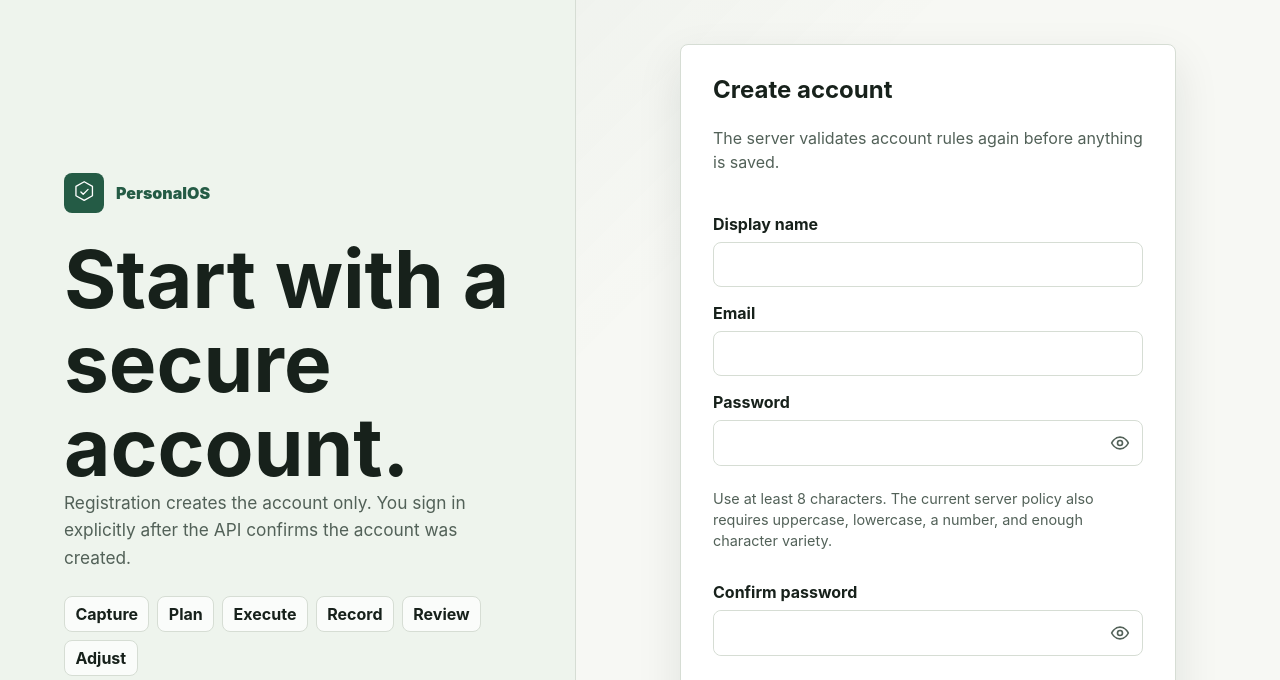
Test: RegisterComponent › shows accessible validation errors and password-confirmation feedback
The width and height of the screenshot is (1280, 680).
Step 1. Type "Jefferson" into the field with id "register-display-name" → (928, 265), box [713,242,1143,287]
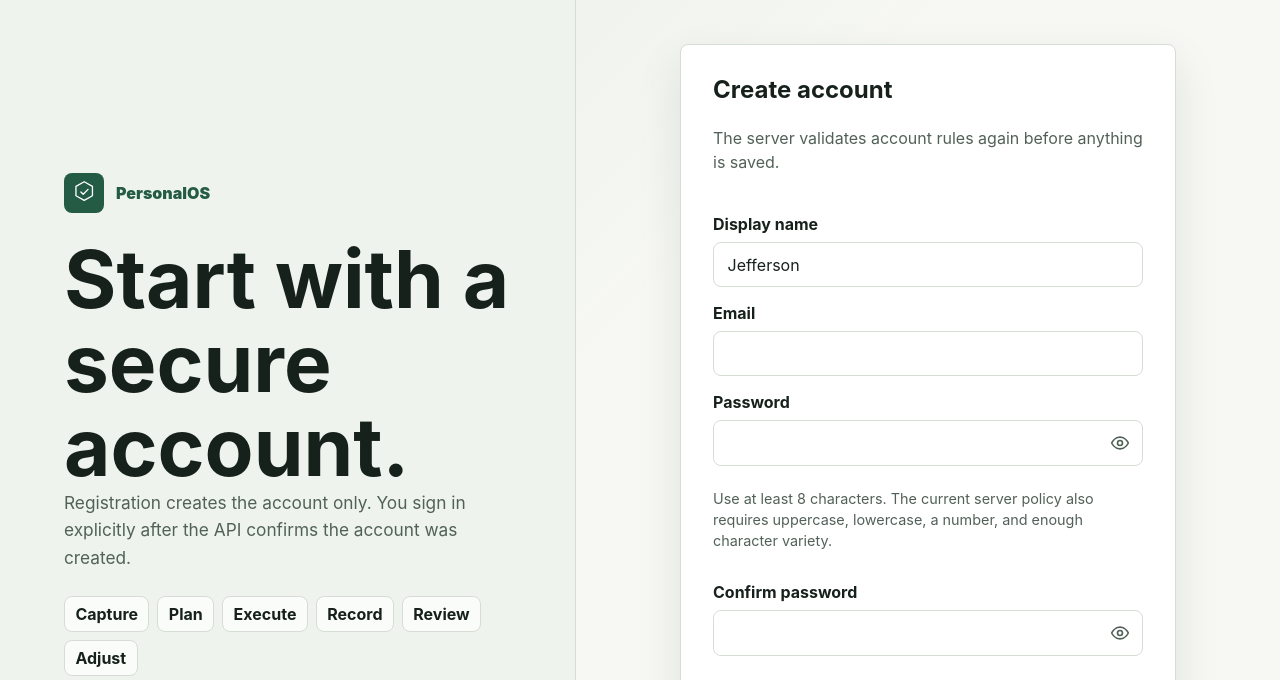
Step 2. Type "jefferson@example.com" into the field with id "register-email" → (928, 354), box [713,331,1143,376]
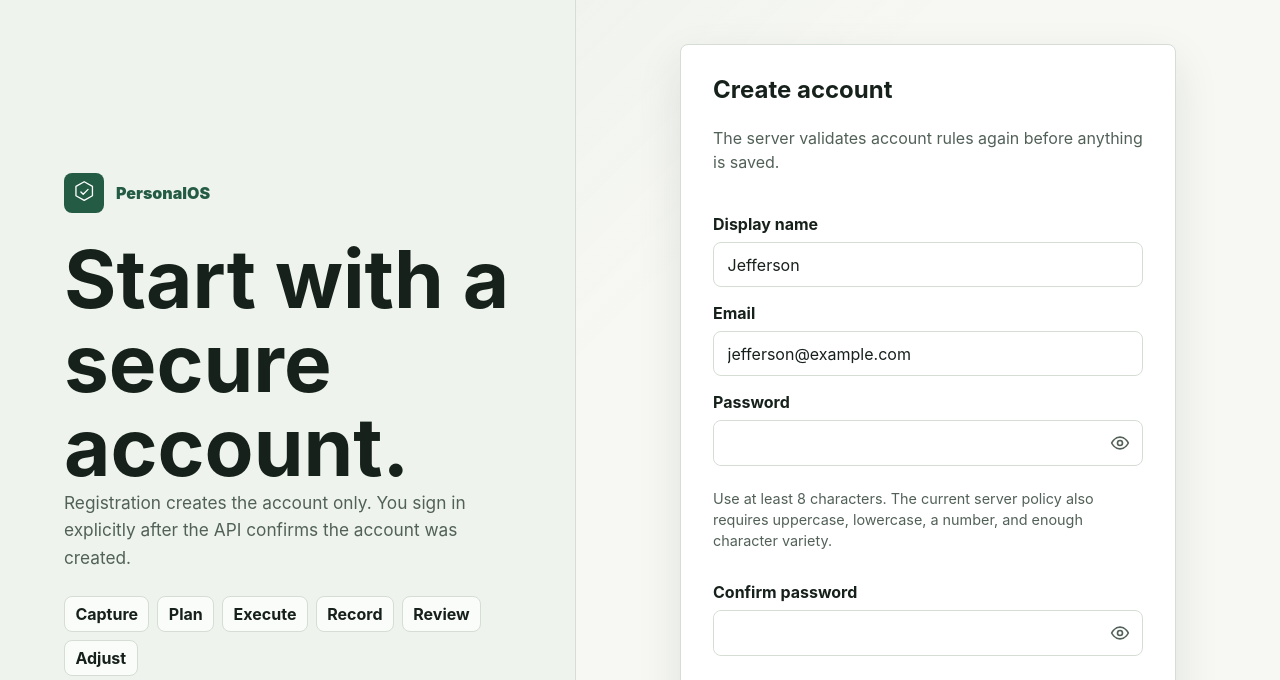
Step 3. Type "Password123" into the password field with id "register-password" → (906, 443), box [714,421,1098,465]
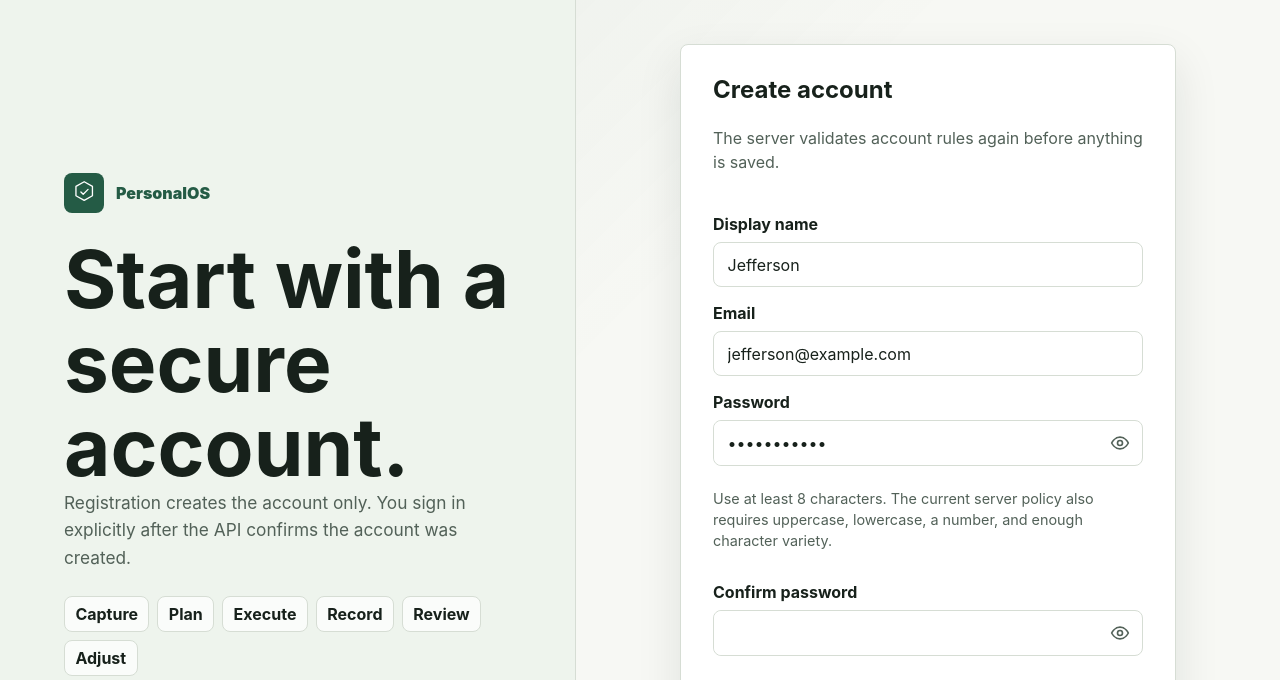
Step 4. Type "Password123" into the password field with id "register-confirm-password" → (906, 633), box [714,611,1098,655]
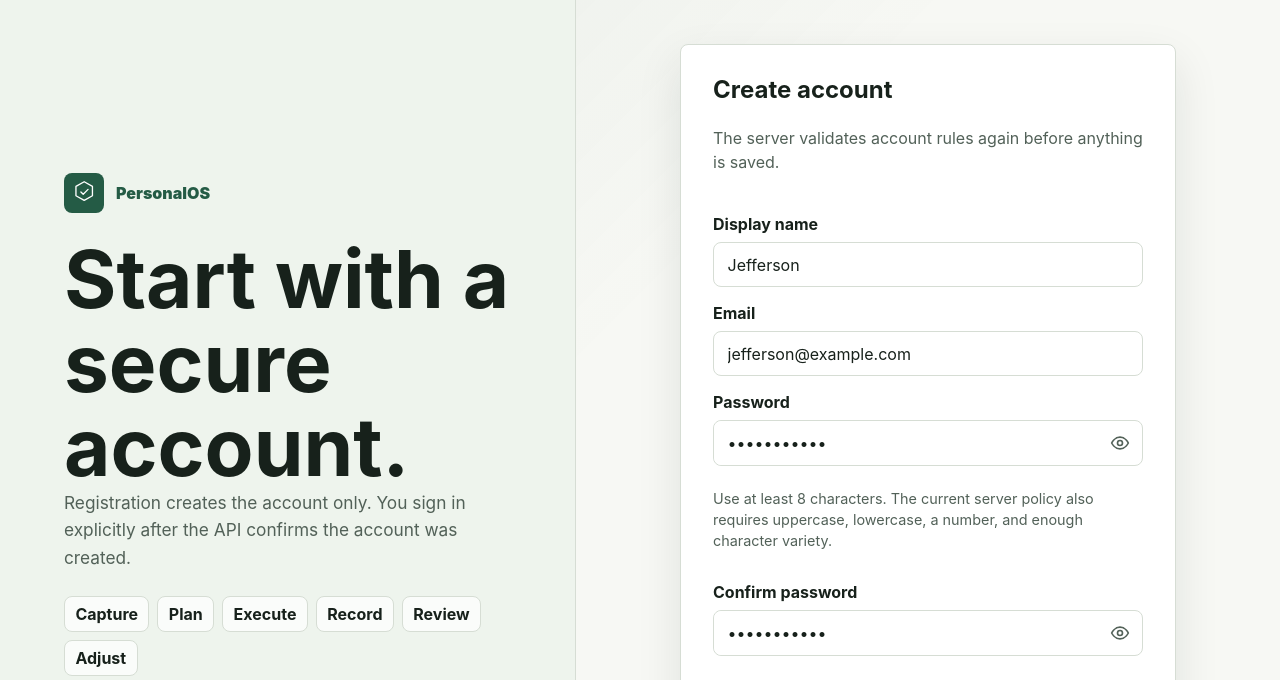
Step 5. Type "Password456" into the password field with id "register-confirm-password" → (906, 633), box [714,611,1098,655]
(page scrolled)
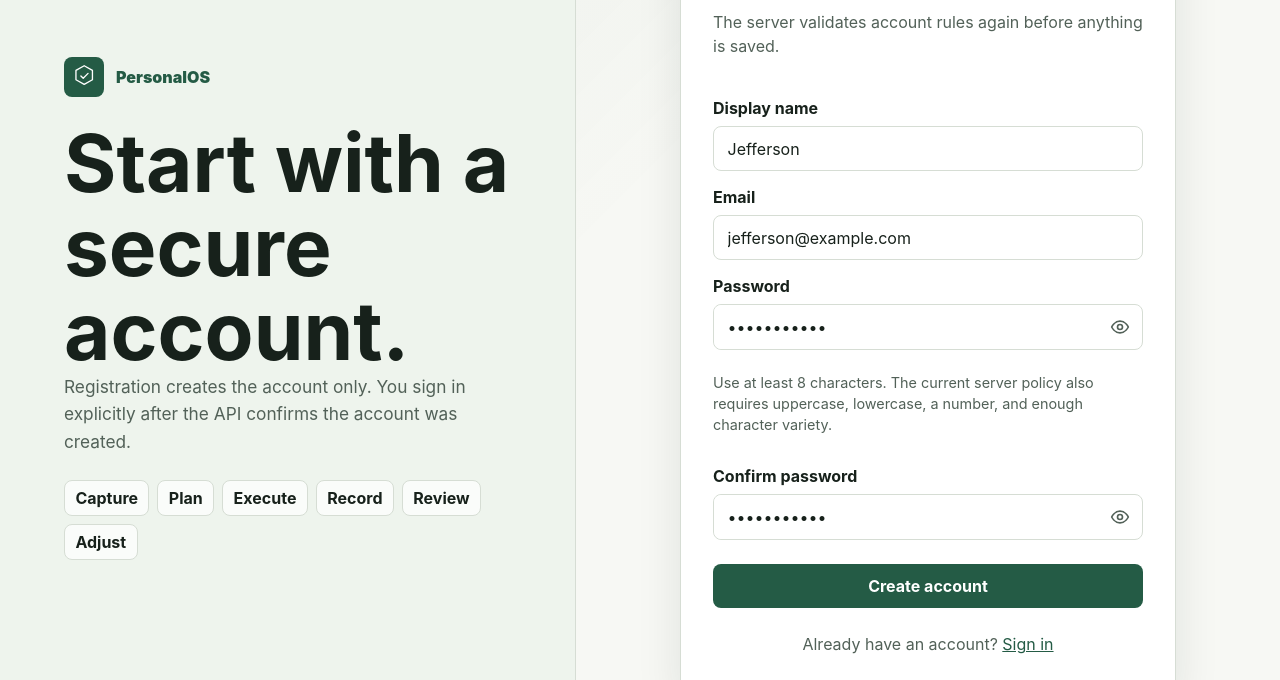
Step 6. Submit the form, box [713,98,1143,608]
(page scrolled)
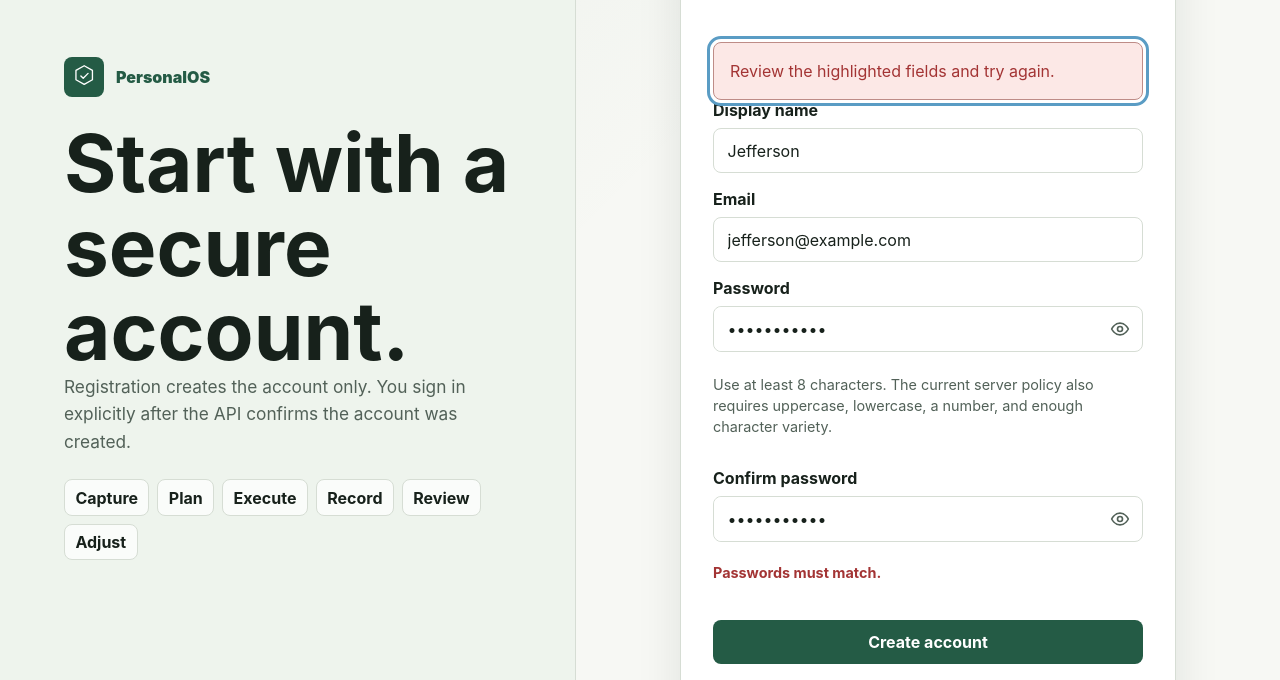
Check: the text "Review the highlighted fields and try again." is shown, box [713,42,1143,100]
Check: the text "Passwords must match." is shown, box [713,564,881,581]
